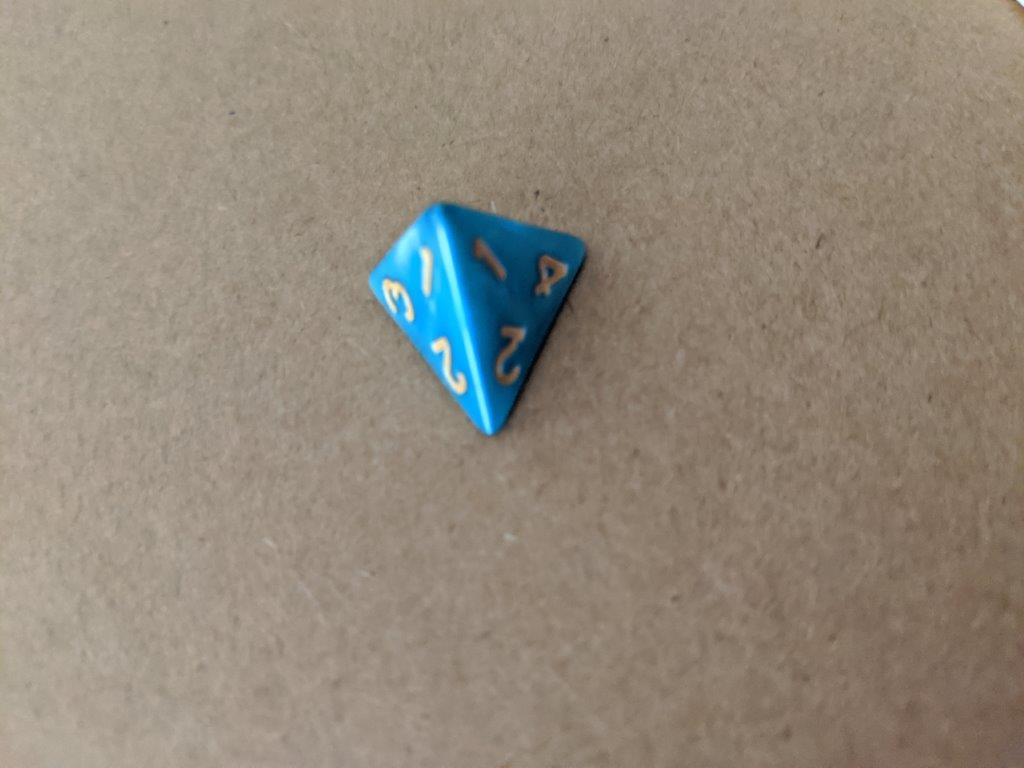d4-1: (362, 194, 591, 444)
